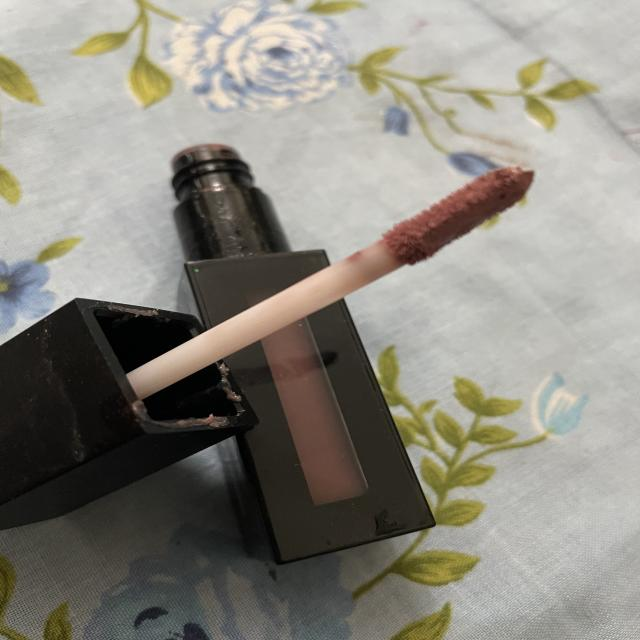lip gloss: (0, 130, 559, 599), (156, 126, 552, 609), (362, 135, 553, 320)
